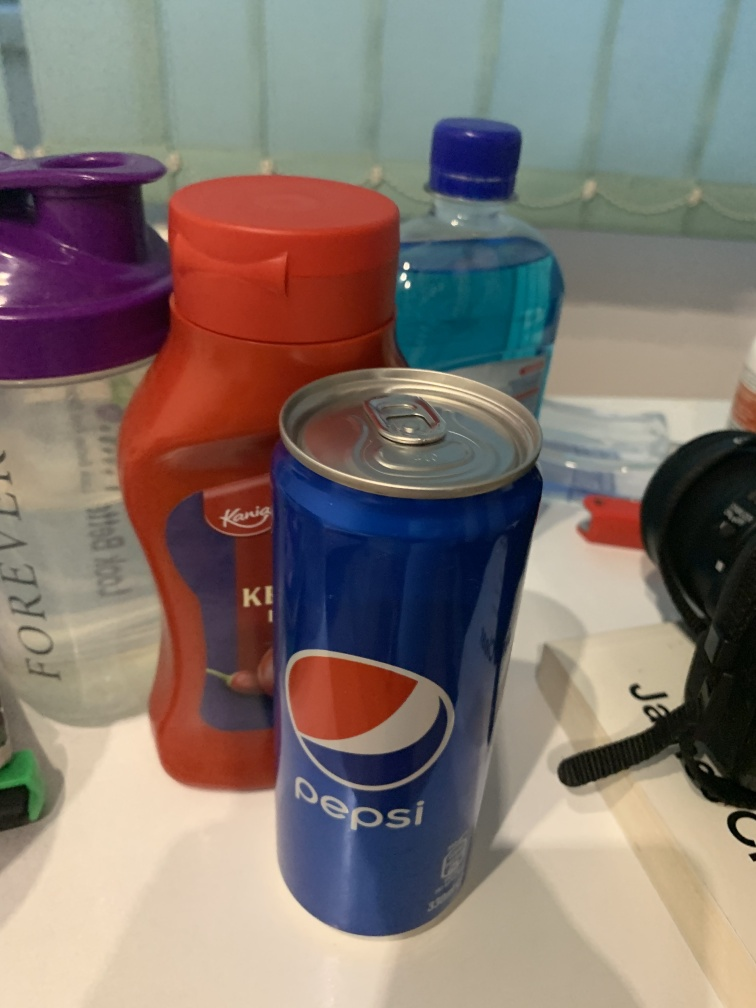ketchup: (116, 170, 407, 800)
pepsi: (275, 370, 547, 943)
